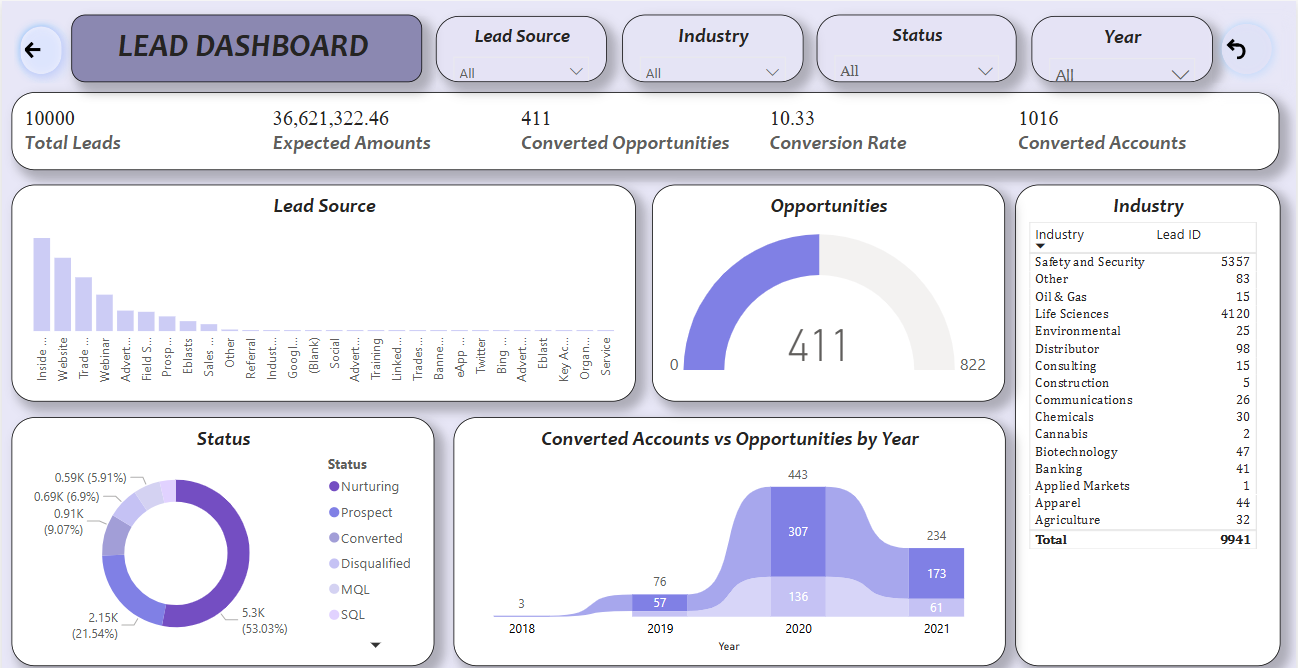

What the dashboard file says about the page in this screenshot:
{"tool":"powerbi","page":{"name":"Lead Dashboard","canvas":[1280,720],"ordinal":2},"visuals":[{"type":"multiRowCard","fields":{"Values":["Sum(lead.Total Leads)","account.Expected Amounts","Sum(lead.# Converted Opportunities)","account.Conversion Rate1","Sum(lead.# Converted Accounts)"]},"box":[10.1,90.5,1254.7,77],"z":0},{"type":"columnChart","title":"Lead Source","fields":{"Category":["lead.Lead Source"],"Y":["CountNonNull(lead.Lead ID)"]},"box":[9.3,181.1,618,214.4],"z":1000},{"type":"tableEx","title":"Industry ","fields":{"Values":["lead.Industry","lead.Lead ID"]},"box":[1002.9,181.1,262.4,476.8],"z":2000},{"type":"donutChart","title":" Status","fields":{"Category":["lead.Status"],"Y":["CountNonNull(lead.Lead ID)"]},"box":[9.3,411.5,418.2,246.4],"z":3000},{"type":"slicer","title":"Status","fields":{"Values":["lead.Status"]},"box":[805.8,13.4,197.7,67],"z":4000},{"type":"slicer","title":"Industry","fields":{"Values":["lead.Industry"]},"box":[613.1,13.4,179.2,67],"z":5000},{"type":"slicer","title":"Lead Source","fields":{"Values":["lead.Lead Source"]},"box":[428.8,15.1,169.2,65.3],"z":6000},{"type":"ribbonChart","title":" Converted Accounts vs Opportunities by Year","fields":{"Y":["Sum(lead.# Converted Accounts)","Sum(lead.# Converted Opportunities)"],"Category":["lead.Pardot First Activity.Variation.Date Hierarchy.Year"]},"box":[446.2,411.5,546.1,246.4],"z":7000},{"type":"slicer","title":"Year","fields":{"Values":["lead.Pardot First Activity.Variation.Date Hierarchy.Year"]},"box":[1018.5,15.1,179.2,65.3],"z":8000},{"type":"gauge","title":"Opportunities","fields":{"Y":["Sum(lead.# Converted Opportunities)"]},"box":[643.3,181.1,348.9,214.4],"z":9000},{"type":"actionButton","box":[1197.4,13.3,67.9,67.9],"z":10000},{"type":"actionButton","box":[9.3,16,58.6,65.3],"z":11000},{"type":"textbox","box":[68.7,13.4,346.8,67],"z":14001}]}

Visuals, with their boxes on the page's 1280x720 design canvas (x1, y1, x2, y2). These are canvas units, not pixel positions in the 1298x668 screenshot, which may show the page scaled, cropped or inside an application window:
multiRowCard - Sum(lead.Total Leads) x account.Expected Amounts: (10,90,1265,168)
"Lead Source" columnChart: (9,181,627,396)
"Industry " tableEx: (1003,181,1265,658)
" Status" donutChart: (9,412,428,658)
"Status" slicer: (806,13,1004,80)
"Industry" slicer: (613,13,792,80)
"Lead Source" slicer: (429,15,598,80)
" Converted Accounts vs Opportunities by Year" ribbonChart: (446,412,992,658)
"Year" slicer: (1018,15,1198,80)
"Opportunities" gauge: (643,181,992,396)
actionButton: (1197,13,1265,81)
actionButton: (9,16,68,81)
textbox: (69,13,416,80)
